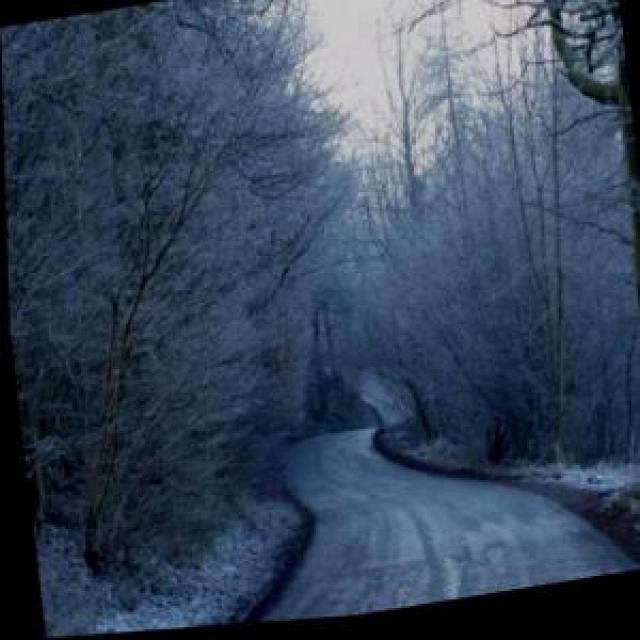ice-road: (242, 431, 637, 627)
